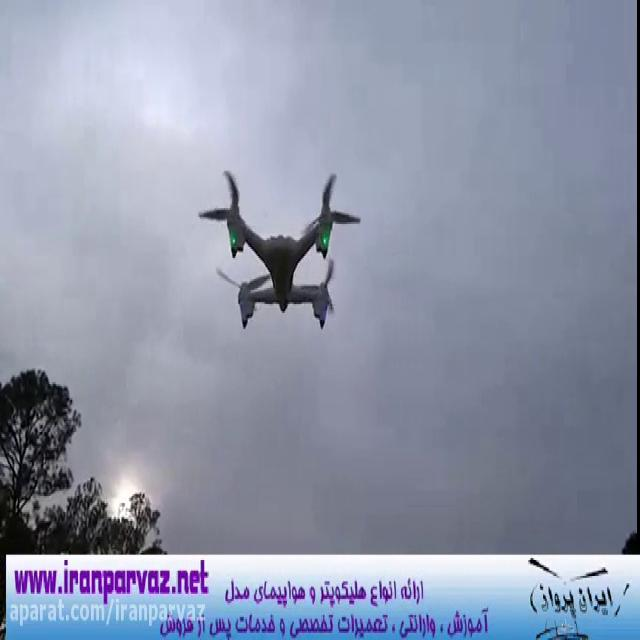drone: (196, 167, 364, 333)
